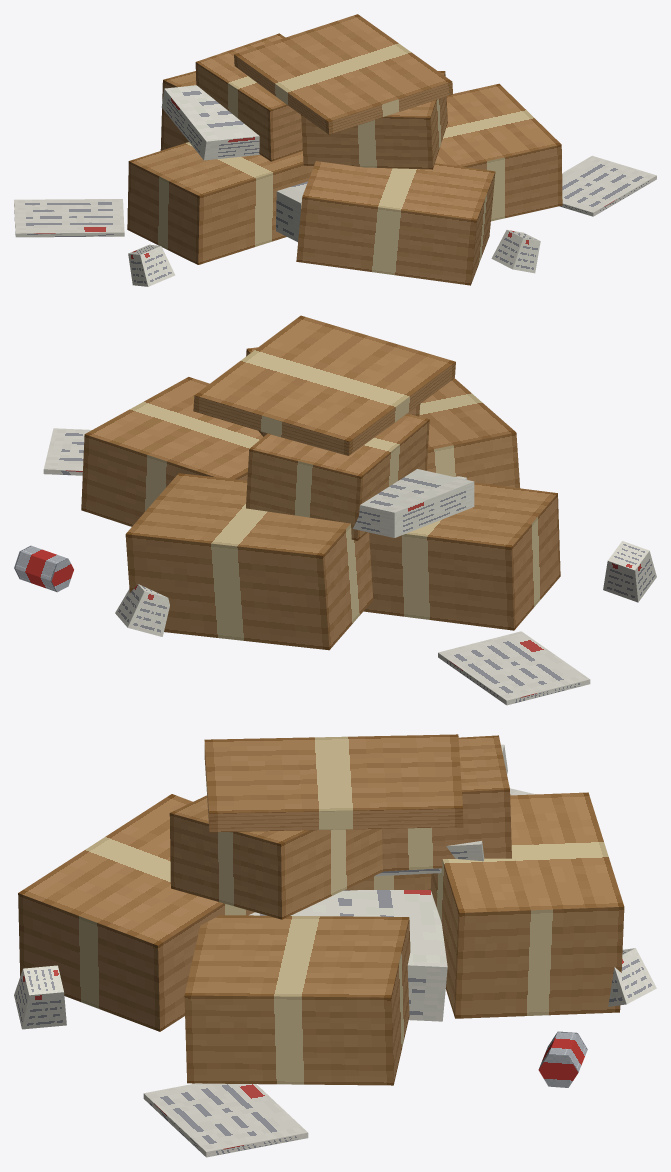
The model's file is trash_pile_cardboard.glb.
3 renders of one model, top to bottom at view 1: azimuth 30°, elevation 25°; view 2: azimuth 150°, elevation 25°; view 3: azimuth 270°, elevation 25°, orthographic. The views are drawn at different scales.
Visible parts, largest first — view 1: Trash_Pile_Cardboard; view 2: Trash_Pile_Cardboard; view 3: Trash_Pile_Cardboard.
Part boxes in pixels (x1,y1,x2,y2): Trash_Pile_Cardboard: (14,14,656,286); Trash_Pile_Cardboard: (14,315,656,705); Trash_Pile_Cardboard: (14,734,656,1157).
Size of the model in its own units: 1.72 by 0.4515 by 1.27.
Materials: 1 (1 with a texture image).
